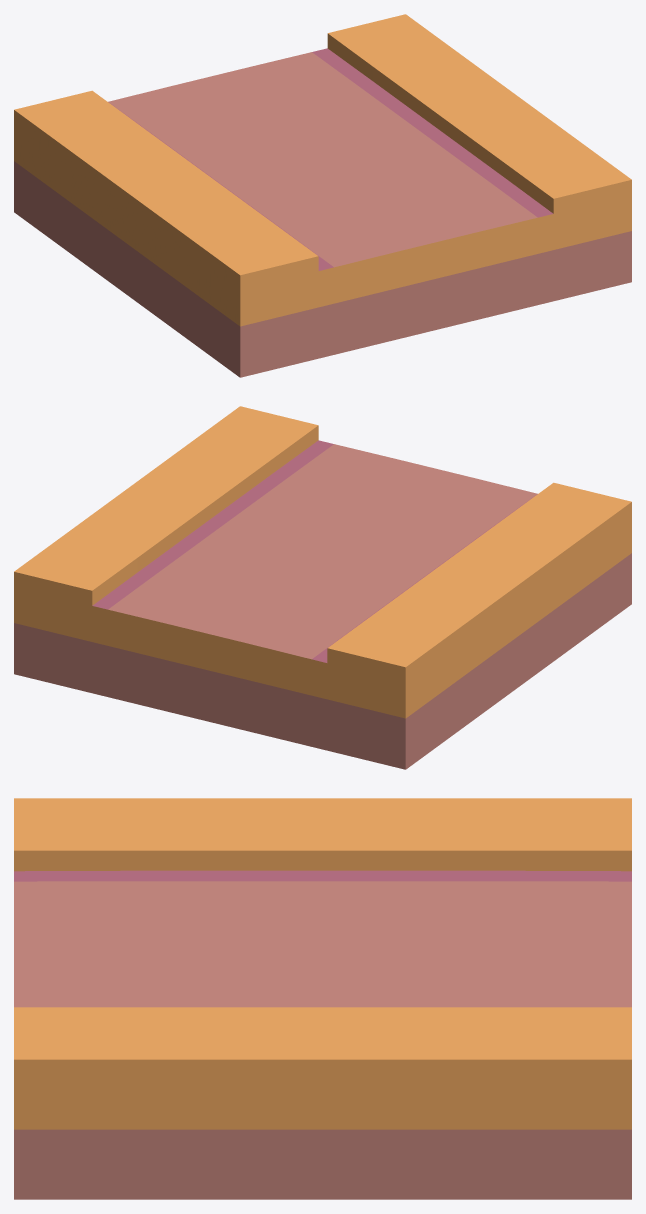
The model's file is Straight.fbx.
3 views of the same model, one above another, from view 1: azimuth 30°, elevation 25°; view 2: azimuth 150°, elevation 25°; view 3: azimuth 270°, elevation 25° (orthographic). The views are drawn at different scales.
Parts seen in each view (by area): view 1: Straight; view 2: Straight; view 3: Straight.
Part boxes in pixels (x1,y1,x2,y2): Straight: [14, 14, 631, 377]; Straight: [14, 406, 631, 769]; Straight: [14, 798, 631, 1199].
Bounding box in the file's own units: 2 × 0.5 × 2.
